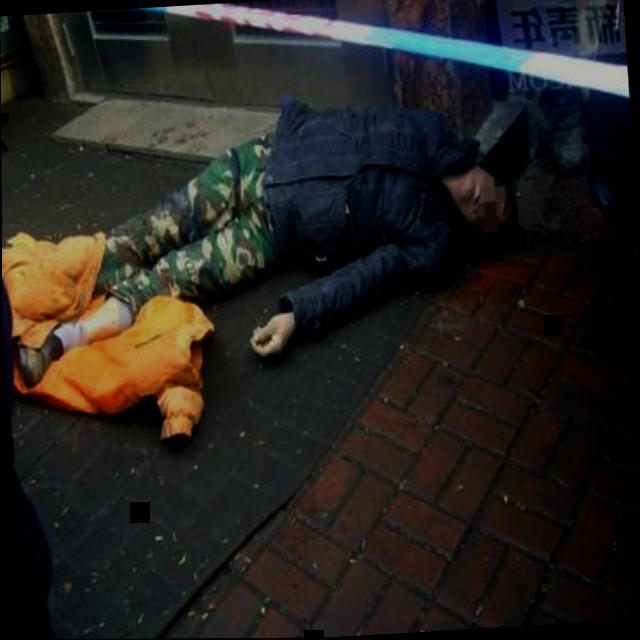Fall-Detected: (0, 64, 529, 379)
